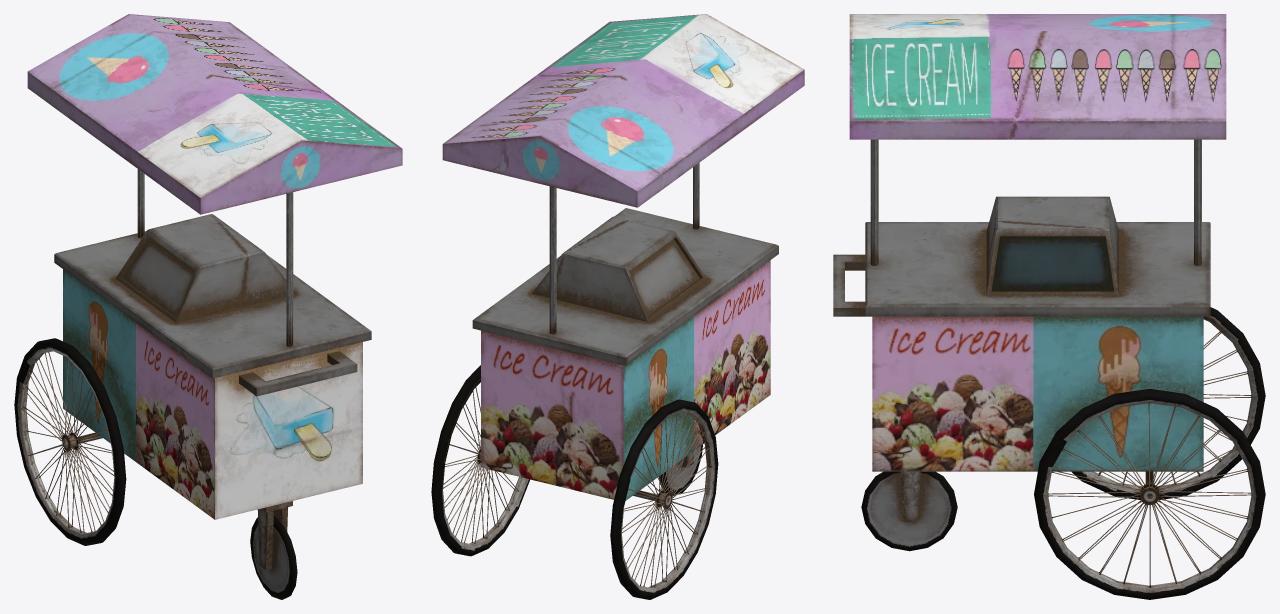
Rendered from prop_carrito.glb.
3 views of the same model, side by side, from view 1: azimuth 30°, elevation 25°; view 2: azimuth 150°, elevation 25°; view 3: azimuth 270°, elevation 25° (orthographic). The views are drawn at different scales.
Parts seen in each view (by area): view 1: wheel2:polySurface1_iceCream_tex_0; view 2: wheel2:polySurface1_iceCream_tex_0; view 3: wheel2:polySurface1_iceCream_tex_0.
Boxes of the visible parts, x1,y1,x2,y2 form: wheel2:polySurface1_iceCream_tex_0: (14,14,402,599); wheel2:polySurface1_iceCream_tex_0: (431,14,804,599); wheel2:polySurface1_iceCream_tex_0: (833,14,1265,599).
Bounding box in the file's own units: 125 × 281 × 212.
1 material, 1 textured.
